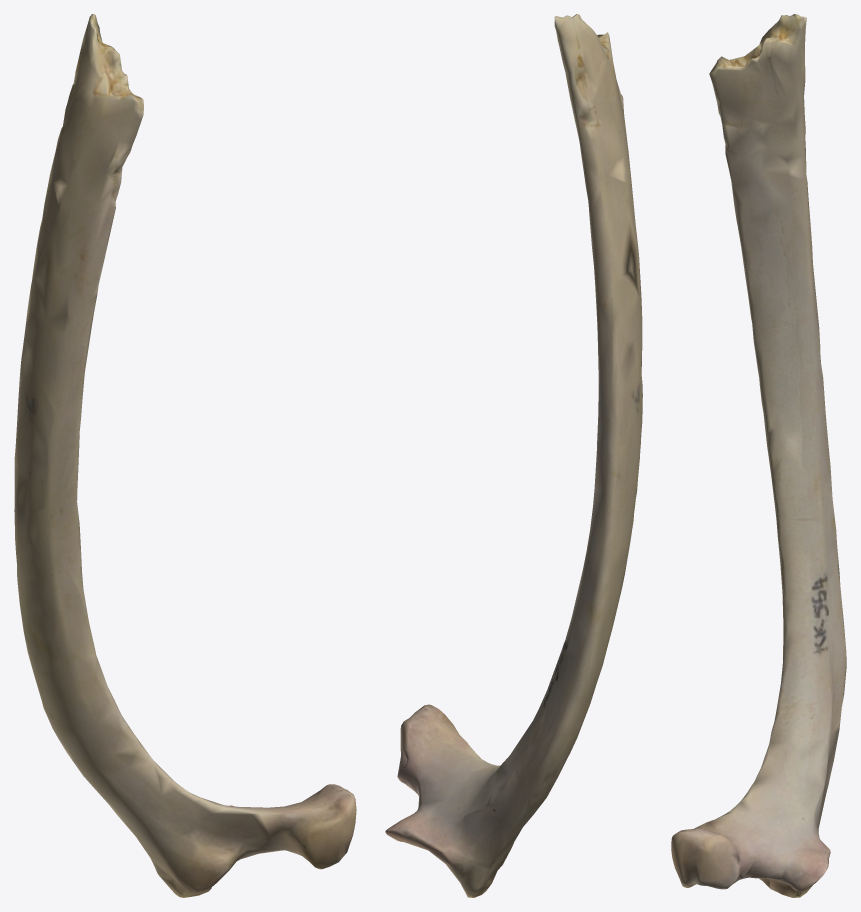
The model's file is rib.glb.
The picture shows the model from 3 angles, left to right: view 1: azimuth 30°, elevation 25°; view 2: azimuth 150°, elevation 25°; view 3: azimuth 270°, elevation 25°; orthographic projection. The views are drawn at different scales.
Size of the model in its own units: 0.0405 by 0.125 by 0.0237.
Materials: 1 (1 with a texture image).
